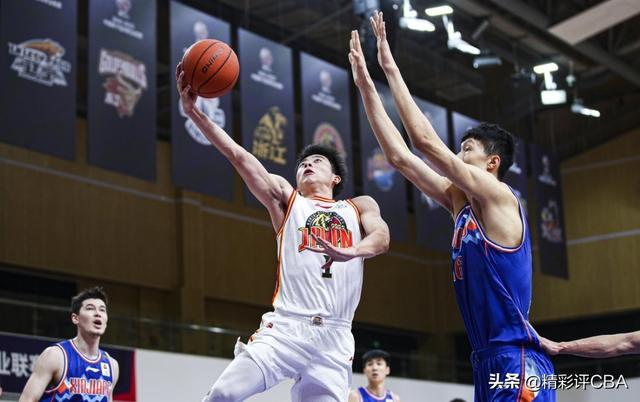ball: (179, 38, 239, 98)
